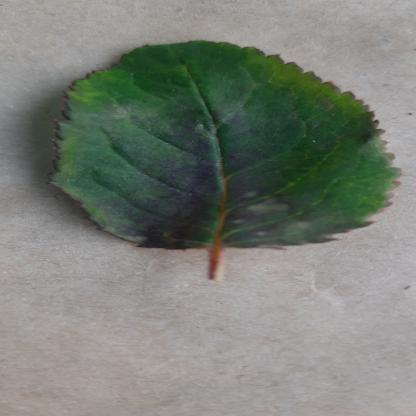downy-mildew: (43, 39, 401, 253)
